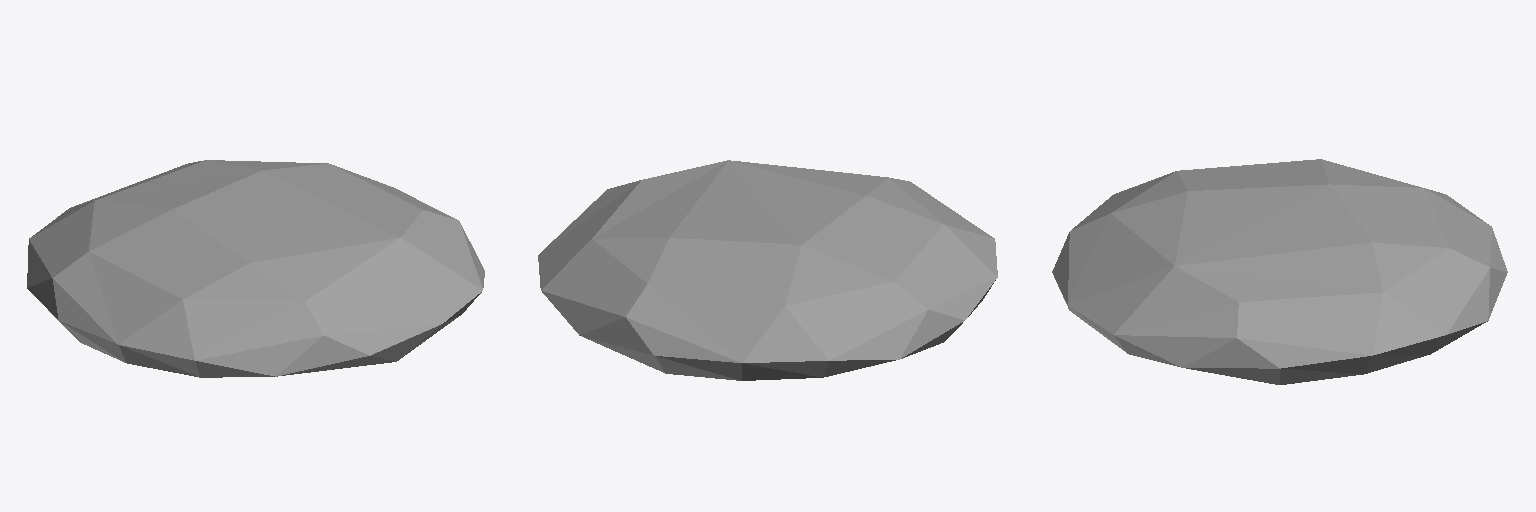
File: Cookie.obj
3 renders of one model, left to right at view 1: azimuth 30°, elevation 25°; view 2: azimuth 150°, elevation 25°; view 3: azimuth 270°, elevation 25°, orthographic.
Parts seen in each view (by area): view 1: Cookie_Cube.001; view 2: Cookie_Cube.001; view 3: Cookie_Cube.001.
Boxes of the visible parts, box(x1,y1,x2,y2) form: Cookie_Cube.001: box(27, 160, 484, 377); Cookie_Cube.001: box(538, 160, 997, 380); Cookie_Cube.001: box(1052, 159, 1507, 384).
Size of the model in its own units: 1.42 by 0.2976 by 1.42.